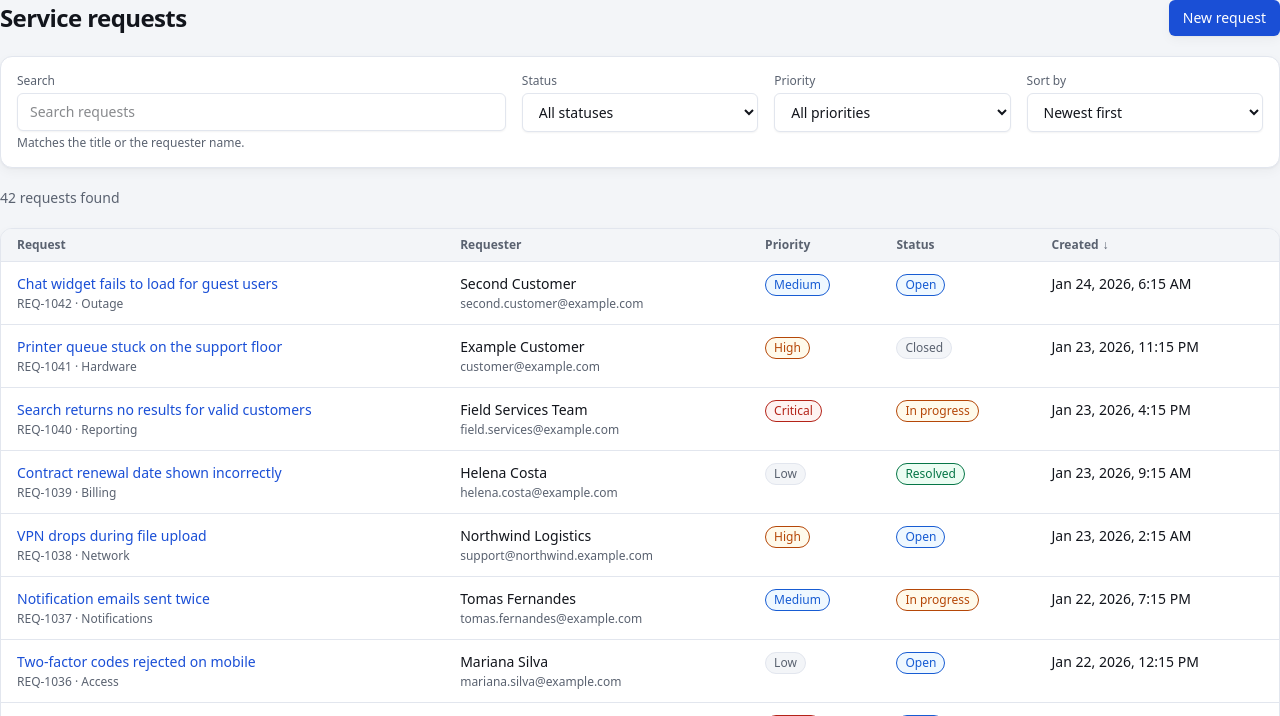
it: RequestsListPage › searches by requester name after the input settles
The width and height of the screenshot is (1280, 716).
In the search field labelled "Search": (261,112) [17,93,506,131], type "northwind"
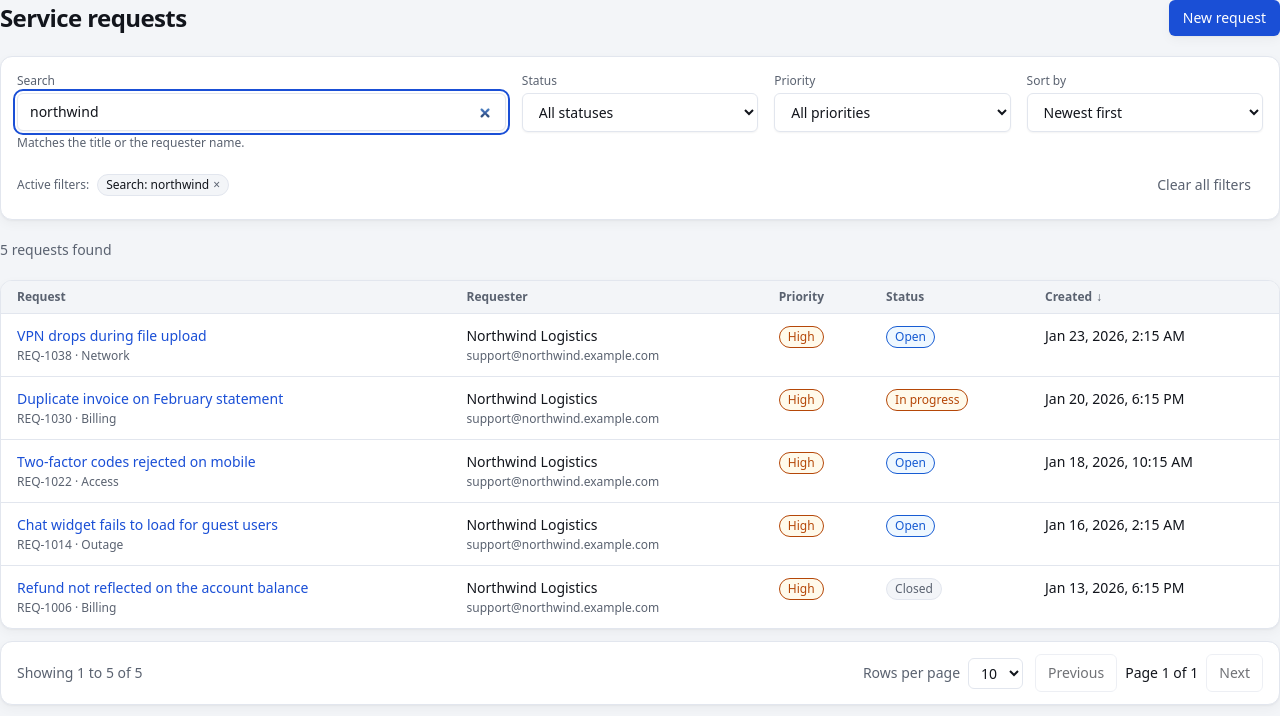
Check: the message reads "5 requests found", box [0,240,112,259]
